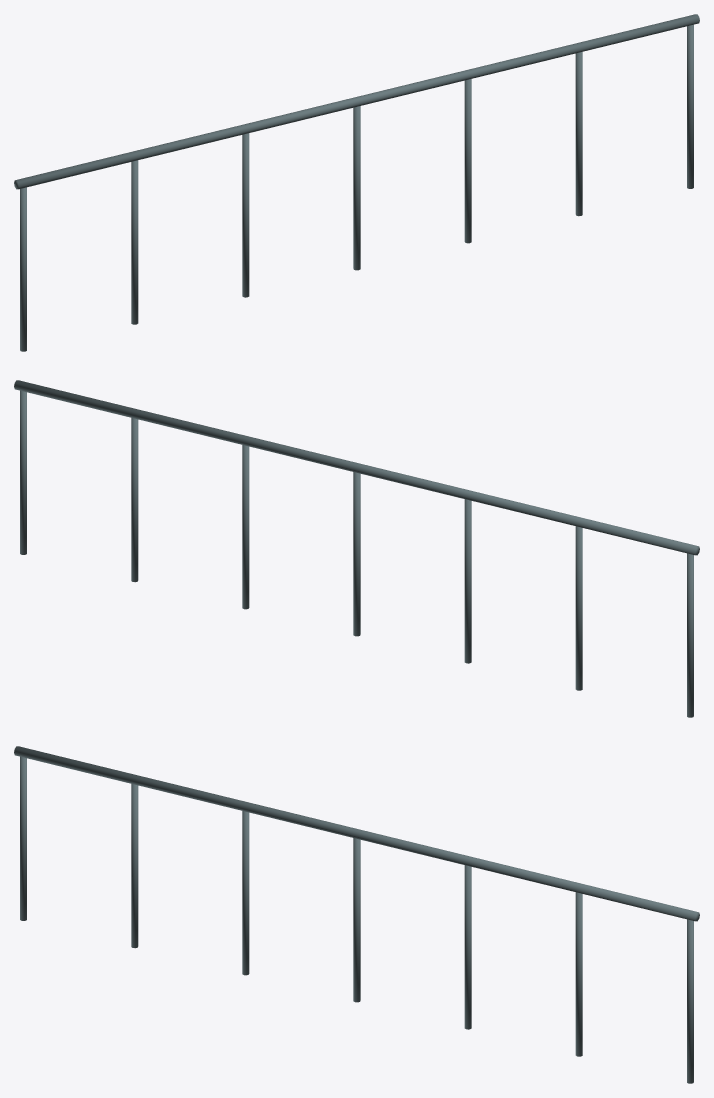
File: Rail.glb
3 views of the same model, one above another, from view 1: azimuth 30°, elevation 25°; view 2: azimuth 150°, elevation 25°; view 3: azimuth 330°, elevation 25° (orthographic).
Parts seen in each view (by area): view 1: VIS_Guard_Rail_Back_0000, VIS_Guard_Baluster_0003, VIS_Guard_Baluster_0004, VIS_Guard_Baluster_0002, VIS_Guard_Baluster_0005, VIS_Guard_Baluster_0006, VIS_Guard_Baluster_0001, VIS_Guard_Baluster_0007; view 2: VIS_Guard_Rail_Back_0000, VIS_Guard_Baluster_0003, VIS_Guard_Baluster_0004, VIS_Guard_Baluster_0002, VIS_Guard_Baluster_0005, VIS_Guard_Baluster_0006, VIS_Guard_Baluster_0001, VIS_Guard_Baluster_0007; view 3: VIS_Guard_Rail_Back_0000, VIS_Guard_Baluster_0004, VIS_Guard_Baluster_0005, VIS_Guard_Baluster_0006, VIS_Guard_Baluster_0002, VIS_Guard_Baluster_0003, VIS_Guard_Baluster_0001, VIS_Guard_Baluster_0007.
Part boxes in pixels (box(x1,y1,x2,y2)): VIS_Guard_Rail_Back_0000: box(14, 14, 699, 189); VIS_Guard_Baluster_0003: box(242, 133, 249, 297); VIS_Guard_Baluster_0004: box(353, 106, 360, 270); VIS_Guard_Baluster_0002: box(131, 160, 138, 324); VIS_Guard_Baluster_0005: box(464, 79, 471, 243); VIS_Guard_Baluster_0006: box(575, 52, 582, 216); VIS_Guard_Baluster_0001: box(20, 187, 26, 351); VIS_Guard_Baluster_0007: box(687, 24, 693, 188); VIS_Guard_Rail_Back_0000: box(14, 380, 699, 555); VIS_Guard_Baluster_0003: box(464, 499, 471, 663); VIS_Guard_Baluster_0004: box(353, 472, 360, 636); VIS_Guard_Baluster_0002: box(575, 526, 582, 690); VIS_Guard_Baluster_0005: box(242, 445, 249, 609); VIS_Guard_Baluster_0006: box(131, 418, 138, 582); VIS_Guard_Baluster_0001: box(687, 553, 693, 717); VIS_Guard_Baluster_0007: box(20, 390, 26, 554); VIS_Guard_Rail_Back_0000: box(14, 746, 699, 921); VIS_Guard_Baluster_0004: box(353, 838, 360, 1002); VIS_Guard_Baluster_0005: box(464, 865, 471, 1029); VIS_Guard_Baluster_0006: box(575, 892, 582, 1056); VIS_Guard_Baluster_0002: box(131, 784, 138, 948); VIS_Guard_Baluster_0003: box(242, 811, 249, 975); VIS_Guard_Baluster_0001: box(20, 756, 26, 920); VIS_Guard_Baluster_0007: box(687, 919, 693, 1083).
Bounding box in the file's own units: 3.88 × 0.935 × 0.05.
1 material, 1 textured.
